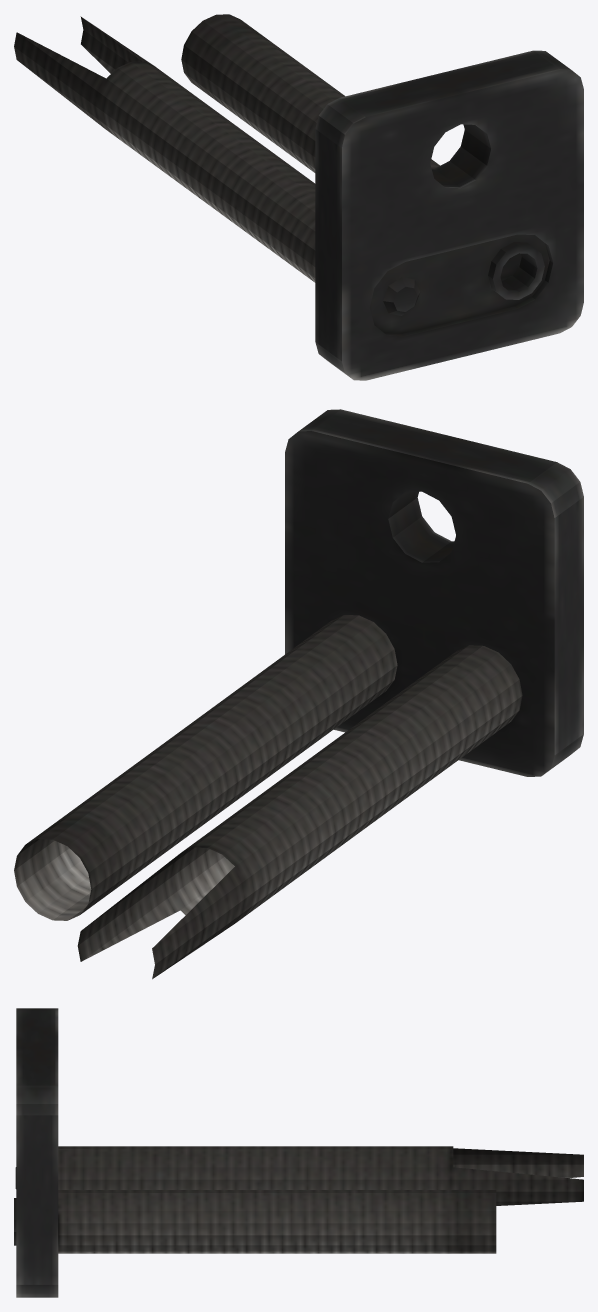
3 views of the same model, one above another, from view 1: azimuth 30°, elevation 25°; view 2: azimuth 150°, elevation 25°; view 3: azimuth 270°, elevation 25° (orthographic). The views are drawn at different scales.
Parts seen in each view (by area): view 1: TW_668e71a8dadf42204c032ce1_PZ_Import; view 2: TW_668e71a8dadf42204c032ce1_PZ_Import; view 3: TW_668e71a8dadf42204c032ce1_PZ_Import.
Boxes of the visible parts, x1,y1,x2,y2 form: TW_668e71a8dadf42204c032ce1_PZ_Import: (14, 14, 583, 380); TW_668e71a8dadf42204c032ce1_PZ_Import: (14, 409, 583, 979); TW_668e71a8dadf42204c032ce1_PZ_Import: (14, 1008, 583, 1297).
Size of the model in its own units: 0.0181 by 0.0463 by 0.0188.
1 material, 1 textured.
